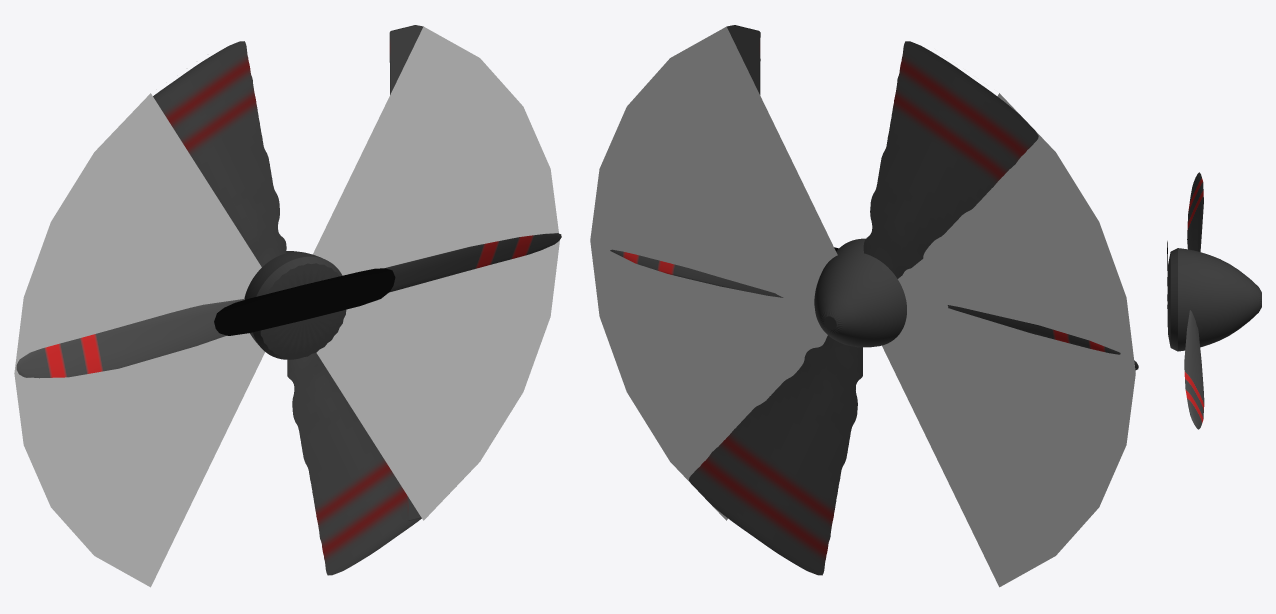
The model's file is prop_RV6A.obj.
3 views of the same model, side by side, from view 1: azimuth 30°, elevation 25°; view 2: azimuth 150°, elevation 25°; view 3: azimuth 270°, elevation 25° (orthographic). The views are drawn at different scales.
Visible parts, largest first — view 1: Propeller.Fast_Mesh.1168, Propeller.Slow_Mesh.1167, propblur_Cube.020, Cube.007_Cube.013, Spinner_Cylinder.001; view 2: Propeller.Fast_Mesh.1168, Propeller.Slow_Mesh.1167, Spinner_Cylinder.001, propblur_Cube.020; view 3: Spinner_Cylinder.001, propblur_Cube.020.
Part boxes in pixels (x1,y1,x2,y2): Propeller.Fast_Mesh.1168: (14, 25, 559, 587); Propeller.Slow_Mesh.1167: (153, 41, 421, 575); propblur_Cube.020: (16, 233, 561, 378); Cube.007_Cube.013: (214, 268, 395, 335); Spinner_Cylinder.001: (244, 251, 346, 359); Propeller.Fast_Mesh.1168: (590, 25, 1135, 587); Propeller.Slow_Mesh.1167: (689, 41, 1038, 575); Spinner_Cylinder.001: (814, 238, 906, 347); propblur_Cube.020: (610, 249, 1138, 370); Spinner_Cylinder.001: (1168, 248, 1261, 351); propblur_Cube.020: (1184, 172, 1204, 429).
Size of the model in its own units: 1.99 by 1.99 by 0.3215.
5 materials, 4 textured.
